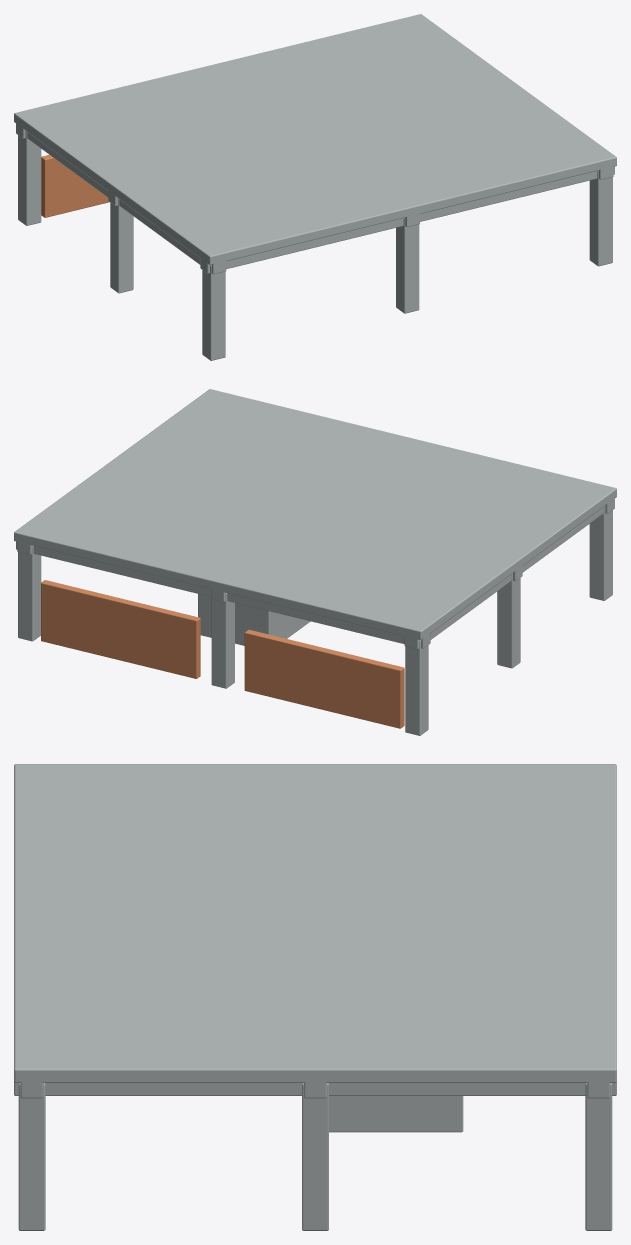
File: floor-module.glb
3 renders of one model, top to bottom at view 1: azimuth 30°, elevation 25°; view 2: azimuth 150°, elevation 25°; view 3: azimuth 270°, elevation 25°, orthographic. The views are drawn at different scales.
Parts seen in each view (by area): view 1: FloorSlab.002, ConcreteBeam.012, MasonryInfill.004, ConcreteColumn.018, ConcreteColumn.021, ConcreteColumn.024, ConcreteColumn.020, ConcreteColumn.019, ConcreteBeam.015; view 2: FloorSlab.002, MasonryInfill.004, MasonryInfill.005, ConcreteBeam.014, ServiceCore.002, ConcreteColumn.020, ConcreteColumn.023, ConcreteColumn.026, ConcreteColumn.018, ConcreteColumn.019, ConcreteBeam.015; view 3: FloorSlab.002, ConcreteBeam.017, ServiceCore.002, ConcreteColumn.024, ConcreteColumn.026, ConcreteColumn.025.
Boxes of the visible parts, box(x1,y1,x2,y2) form: FloorSlab.002: box(14, 14, 616, 265); ConcreteBeam.012: box(200, 166, 614, 273); MasonryInfill.004: box(41, 154, 109, 217); ConcreteColumn.018: box(202, 265, 225, 360); ConcreteColumn.021: box(396, 218, 419, 313); ConcreteColumn.024: box(589, 170, 612, 266); ConcreteColumn.020: box(18, 131, 41, 225); ConcreteColumn.019: box(110, 198, 133, 293); ConcreteBeam.015: box(27, 132, 226, 274); FloorSlab.002: box(14, 389, 616, 640); MasonryInfill.004: box(244, 629, 404, 728); MasonryInfill.005: box(41, 580, 200, 678); ConcreteBeam.014: box(16, 541, 430, 648); ServiceCore.002: box(198, 594, 310, 645); ConcreteColumn.020: box(405, 640, 428, 735); ConcreteColumn.023: box(211, 593, 234, 688); ConcreteColumn.026: box(18, 545, 41, 641); ConcreteColumn.018: box(589, 506, 612, 600); ConcreteColumn.019: box(497, 573, 520, 668); ConcreteBeam.015: box(404, 507, 603, 649); FloorSlab.002: box(14, 764, 616, 1082); ConcreteBeam.017: box(14, 1082, 616, 1095); ServiceCore.002: box(329, 1096, 463, 1132); ConcreteColumn.024: box(18, 1083, 45, 1230); ConcreteColumn.026: box(585, 1083, 612, 1230); ConcreteColumn.025: box(302, 1083, 328, 1230).
Bounding box in the file's own units: 12 × 3 × 10.
